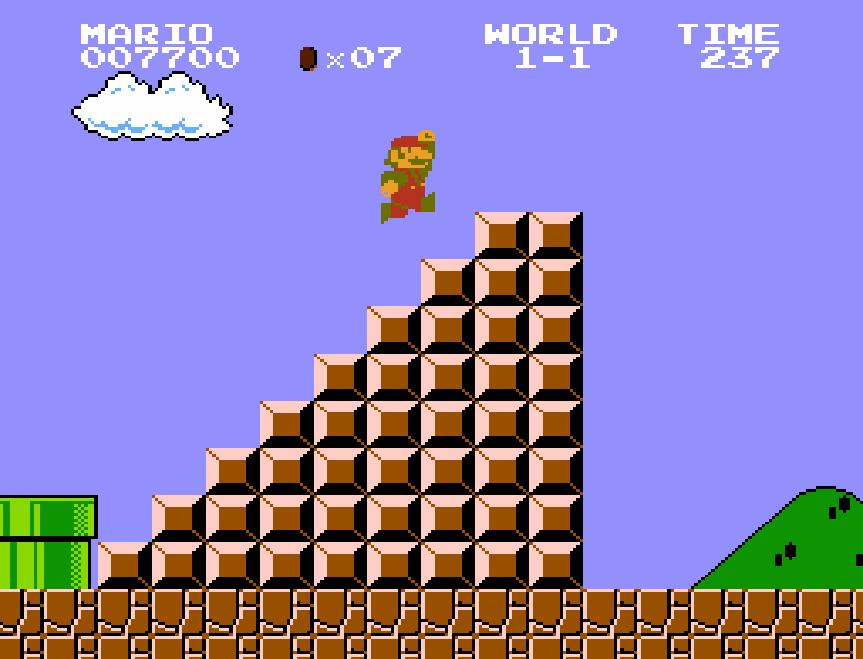big_mario: (379, 127, 437, 225)
